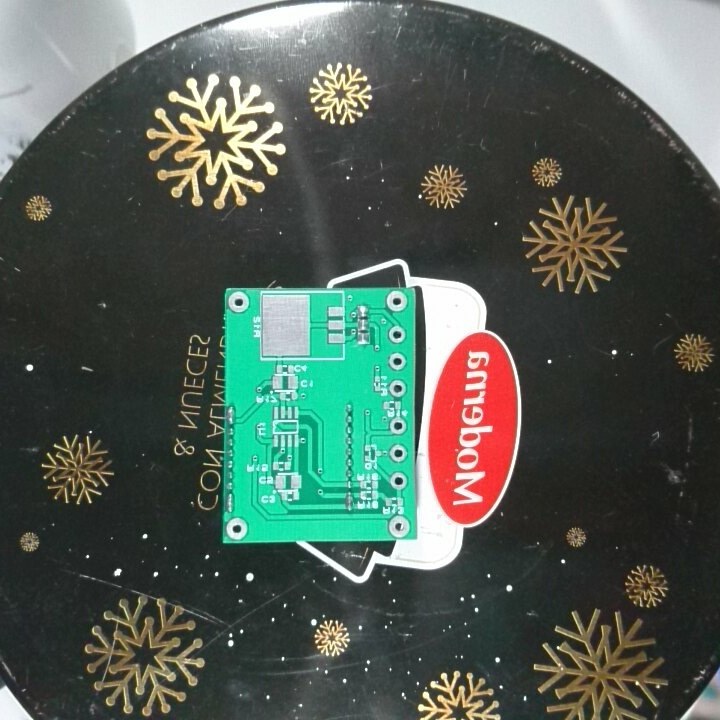F: (225, 289, 251, 315), (383, 288, 409, 314), (385, 512, 411, 538), (225, 516, 250, 540), (386, 349, 408, 374), (388, 469, 408, 495), (388, 414, 409, 438), (387, 442, 409, 464), (386, 322, 407, 345), (386, 378, 408, 398)
P: (342, 489, 356, 516), (223, 491, 237, 514), (225, 401, 238, 425)
